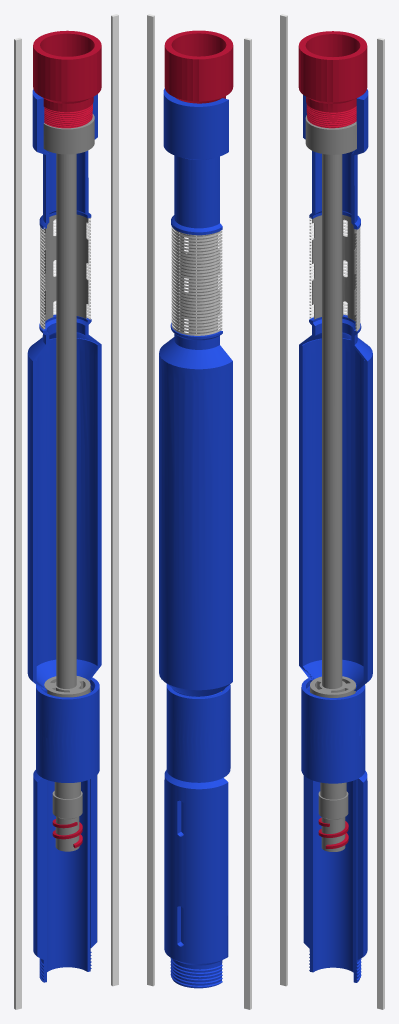
The model's file is gas_shield.glb.
3 renders of one model, left to right at view 1: azimuth 30°, elevation 25°; view 2: azimuth 150°, elevation 25°; view 3: azimuth 330°, elevation 25°, orthographic.
Visible parts, largest first — view 1: SGS.008, Plane, Collar + DT 45.009, Plane.015, 01 VORTX HELIX.003, Pin Pin.015, Circle.008, 0000000Dual Flow tube.008, Plane.016, 0000000Dual Flow tube.006; view 2: SGS.008, Plane, Plane.015, 01 VORTX HELIX.003, Plane.016, Pin Pin.015, Circle.008, Plane.017; view 3: SGS.008, Plane, Collar + DT 45.009, Plane.015, 01 VORTX HELIX.003, Pin Pin.015, Circle.008, 0000000Dual Flow tube.008, Plane.016, 0000000Dual Flow tube.006.
Boxes of the visible parts, left/top/right/bottom form: SGS.008: left=27, top=89, right=101, bottom=693; Plane: left=14, top=14, right=118, bottom=1009; Collar + DT 45.009: left=56, top=153, right=76, bottom=688; Plane.015: left=33, top=770, right=97, bottom=982; 01 VORTX HELIX.003: left=36, top=677, right=99, bottom=851; Pin Pin.015: left=33, top=30, right=101, bottom=128; Circle.008: left=43, top=214, right=88, bottom=327; 0000000Dual Flow tube.008: left=43, top=114, right=94, bottom=154; Plane.016: left=40, top=217, right=90, bottom=329; 0000000Dual Flow tube.006: left=44, top=676, right=90, bottom=697; SGS.008: left=159, top=88, right=232, bottom=697; Plane: left=147, top=14, right=251, bottom=1009; Plane.015: left=164, top=770, right=228, bottom=988; 01 VORTX HELIX.003: left=166, top=684, right=230, bottom=782; Plane.016: left=171, top=227, right=222, bottom=335; Pin Pin.015: left=164, top=30, right=233, bottom=103; Circle.008: left=175, top=230, right=219, bottom=333; Plane.017: left=179, top=232, right=215, bottom=333; SGS.008: left=299, top=89, right=372, bottom=692; Plane: left=280, top=14, right=384, bottom=1009; Collar + DT 45.009: left=322, top=154, right=342, bottom=688; Plane.015: left=303, top=771, right=367, bottom=982; 01 VORTX HELIX.003: left=301, top=678, right=365, bottom=851; Pin Pin.015: left=298, top=31, right=367, bottom=128; Circle.008: left=312, top=215, right=356, bottom=328; 0000000Dual Flow tube.008: left=305, top=115, right=356, bottom=154; Plane.016: left=309, top=217, right=360, bottom=331; 0000000Dual Flow tube.006: left=310, top=676, right=355, bottom=697.
Bounding box in the file's own units: 0.8044 × 7.23 × 0.5006.
